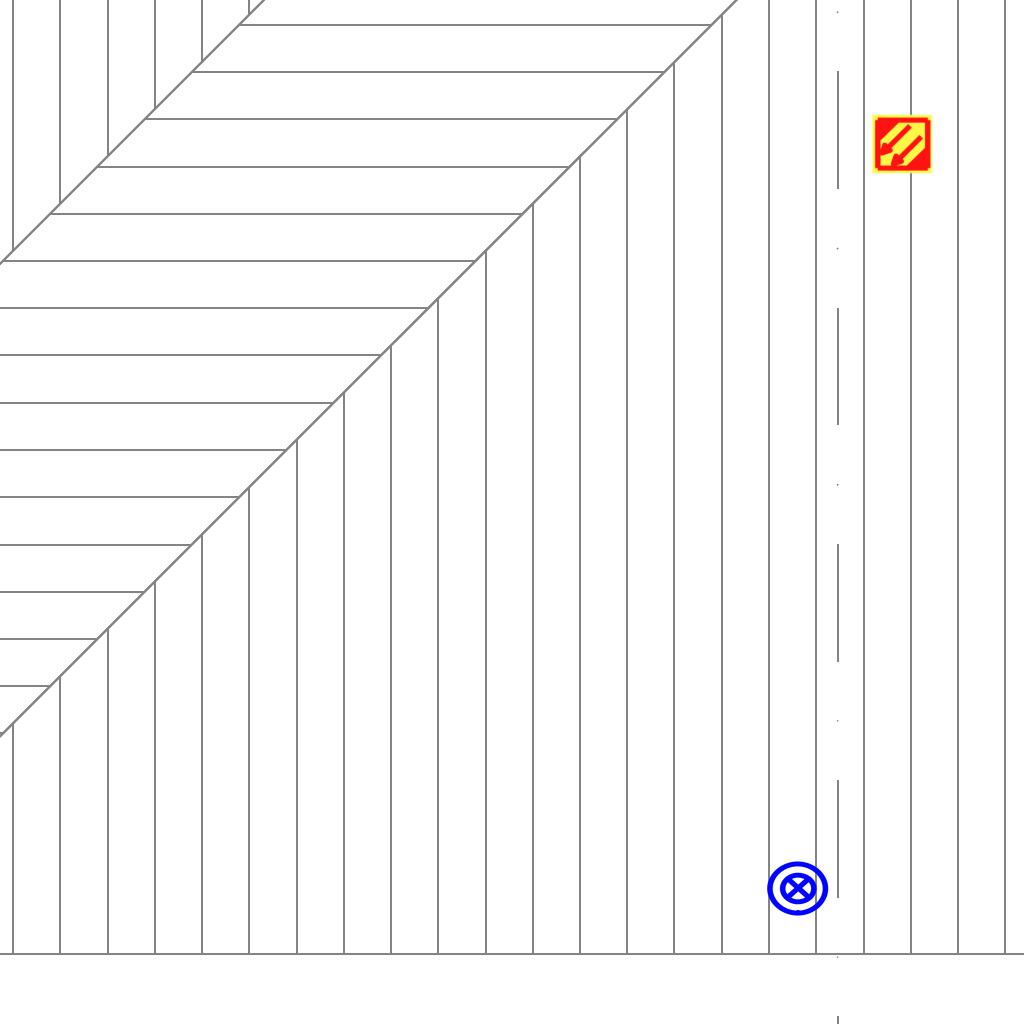ASR_Ansaugrauchmelder: (871, 113, 933, 175)
Taster_beleuchtet: (765, 855, 831, 921)
